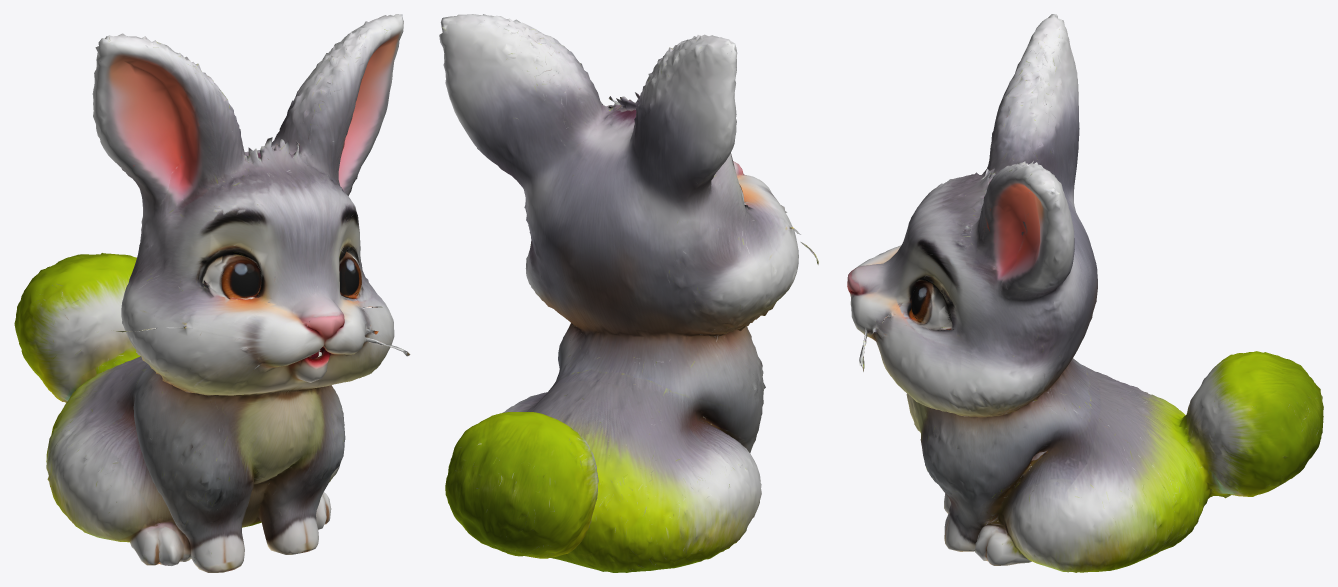
The model's file is rabbit.glb.
3 views of the same model, side by side, from view 1: azimuth 30°, elevation 25°; view 2: azimuth 150°, elevation 25°; view 3: azimuth 270°, elevation 25° (orthographic). The views are drawn at different scales.
Size of the model in its own units: 1.33 by 1.91 by 1.76.
Materials: 1 (1 with a texture image).
